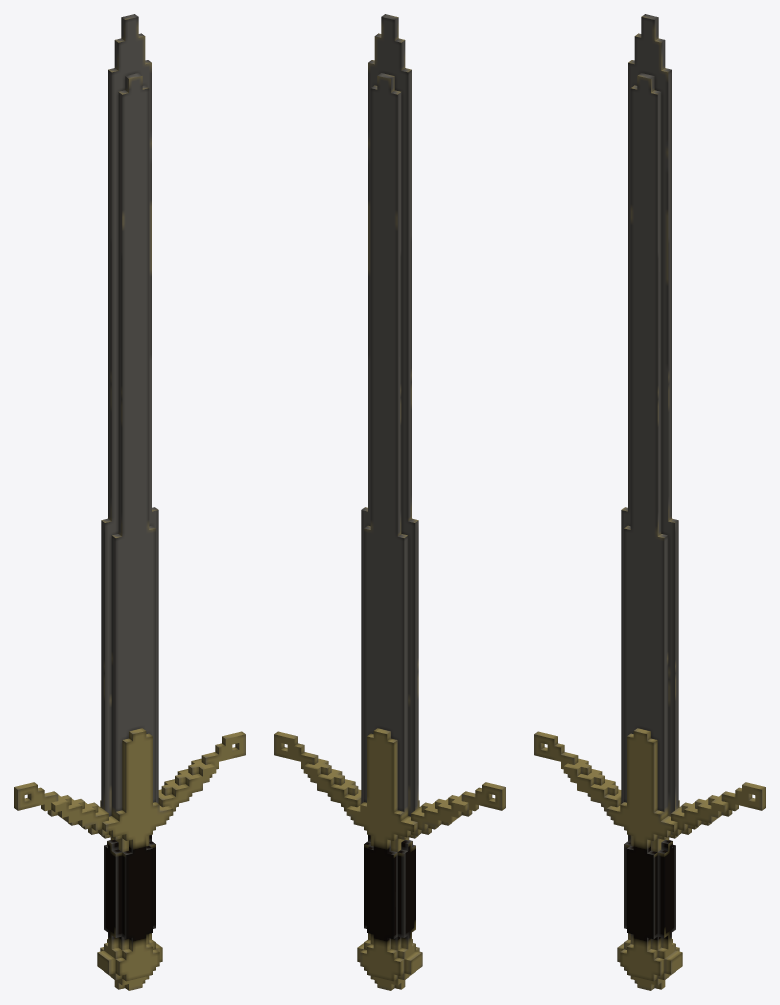
Rendered from Weapon_Claymore.obj.
3 renders of one model, left to right at view 1: azimuth 30°, elevation 25°; view 2: azimuth 150°, elevation 25°; view 3: azimuth 330°, elevation 25°, orthographic.
Parts seen in each view (by area): view 1: Weapon_Claymore; view 2: Weapon_Claymore; view 3: Weapon_Claymore.
Part boxes in pixels (<box>): Weapon_Claymore: <box>14,14,245,990</box>; Weapon_Claymore: <box>274,14,505,990</box>; Weapon_Claymore: <box>534,14,765,990</box>.
Size of the model in its own units: 34 by 138 by 5.
